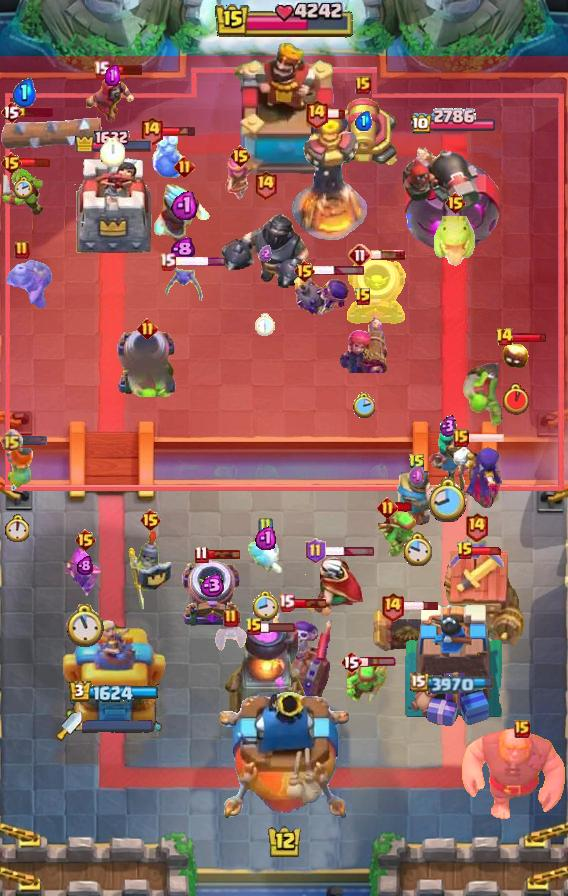archer: (223, 156, 257, 202)
archer-evolution: (65, 548, 105, 600)
bar: (174, 256, 227, 267), (323, 546, 375, 557), (313, 265, 365, 276), (107, 63, 144, 76), (360, 656, 397, 668), (403, 600, 440, 612), (468, 432, 505, 444), (260, 621, 296, 633), (292, 597, 328, 609), (370, 249, 406, 261), (162, 125, 197, 137), (511, 332, 548, 343), (12, 435, 48, 446), (206, 549, 241, 560), (17, 157, 51, 168), (17, 107, 53, 117), (472, 546, 504, 556), (326, 108, 346, 120), (395, 501, 414, 513)
bar-level: (380, 591, 405, 622), (464, 511, 489, 542), (253, 169, 278, 200), (139, 115, 164, 146), (304, 98, 329, 129), (348, 243, 372, 267), (74, 528, 97, 552), (139, 508, 162, 532), (293, 259, 316, 283), (444, 191, 467, 215), (0, 151, 23, 175), (229, 144, 252, 168), (305, 538, 326, 564), (0, 429, 23, 452), (340, 650, 362, 674), (0, 100, 22, 124), (377, 497, 398, 518), (137, 318, 158, 339), (174, 156, 195, 177), (495, 327, 514, 347), (245, 617, 263, 637), (456, 541, 474, 561), (408, 453, 426, 473), (354, 287, 372, 307), (278, 593, 295, 612), (159, 252, 176, 271), (93, 60, 110, 79), (223, 608, 239, 628), (257, 517, 273, 537), (14, 240, 30, 260), (514, 720, 530, 738), (453, 429, 469, 447), (355, 76, 371, 94), (194, 545, 209, 564)
bat: (213, 624, 249, 652)
bat-evolution: (446, 537, 506, 575), (160, 265, 204, 305)
bomber: (151, 128, 187, 180)
bomber-evolution: (293, 275, 351, 319)
cannoneer-tower: (402, 136, 504, 256)
clock: (429, 477, 468, 524), (66, 604, 104, 648), (402, 532, 432, 568), (252, 591, 279, 622), (503, 383, 529, 415), (100, 138, 125, 167), (4, 514, 29, 542), (352, 392, 375, 418), (255, 313, 276, 336), (14, 176, 34, 200)
dagger-duchess-tower: (62, 615, 167, 731)
dagger-duchess-tower-bar: (82, 719, 154, 733)
elixir: (171, 189, 197, 220), (12, 78, 36, 107), (197, 574, 225, 597), (170, 237, 195, 262), (255, 525, 276, 550), (409, 465, 426, 487), (440, 415, 457, 437), (355, 111, 372, 131), (105, 65, 120, 86), (77, 556, 93, 575), (259, 245, 272, 262)
fire-spirit: (502, 341, 530, 369)
firecracker-evolution: (335, 311, 391, 373)
goblin: (0, 168, 46, 218)
goblin-ball: (461, 363, 511, 429)
guard: (126, 529, 174, 611)
ice-spirit: (246, 538, 284, 576)
ice-wizard: (154, 181, 214, 247)
king-tower: (219, 692, 349, 826), (228, 41, 340, 181)
king-tower-bar: (214, 1, 354, 40)
knight: (395, 471, 439, 526)
miner: (0, 258, 54, 310)
mortar-evolution: (179, 559, 243, 629), (115, 327, 179, 397), (344, 257, 408, 327)
queen-tower: (401, 599, 506, 731), (74, 157, 154, 256)
rascal-girl: (428, 428, 468, 482)
spear-goblin: (344, 661, 390, 707), (378, 511, 422, 559)
tesla: (369, 606, 441, 654)
the-log: (0, 117, 107, 153)
tower-bar: (410, 108, 497, 136), (69, 680, 159, 703), (74, 127, 154, 152), (410, 672, 497, 694)
valkyrie: (0, 442, 38, 494)
witch: (445, 440, 505, 508)
wizard: (86, 74, 138, 124)
